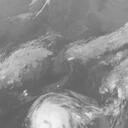cyclone: (25, 95, 85, 127)
